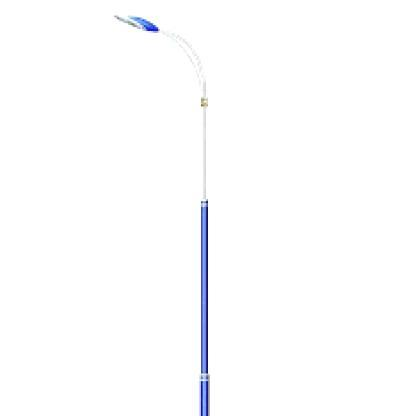light_pole: (112, 10, 212, 415)
